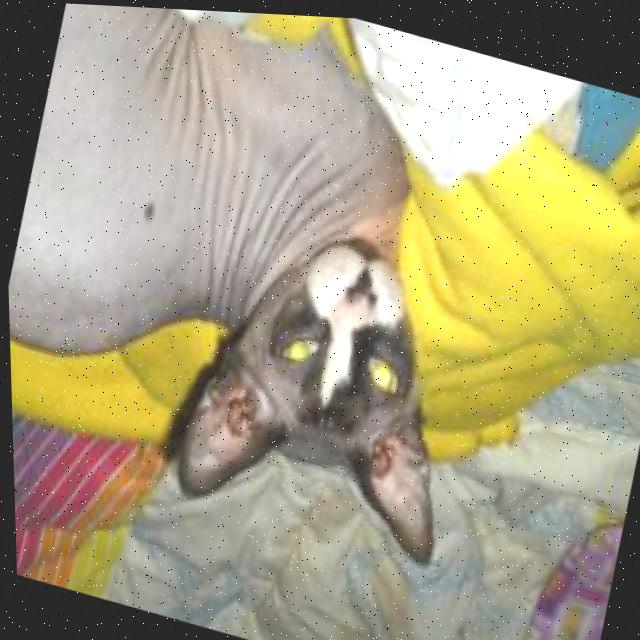Sphynx: (0, 0, 541, 578)
